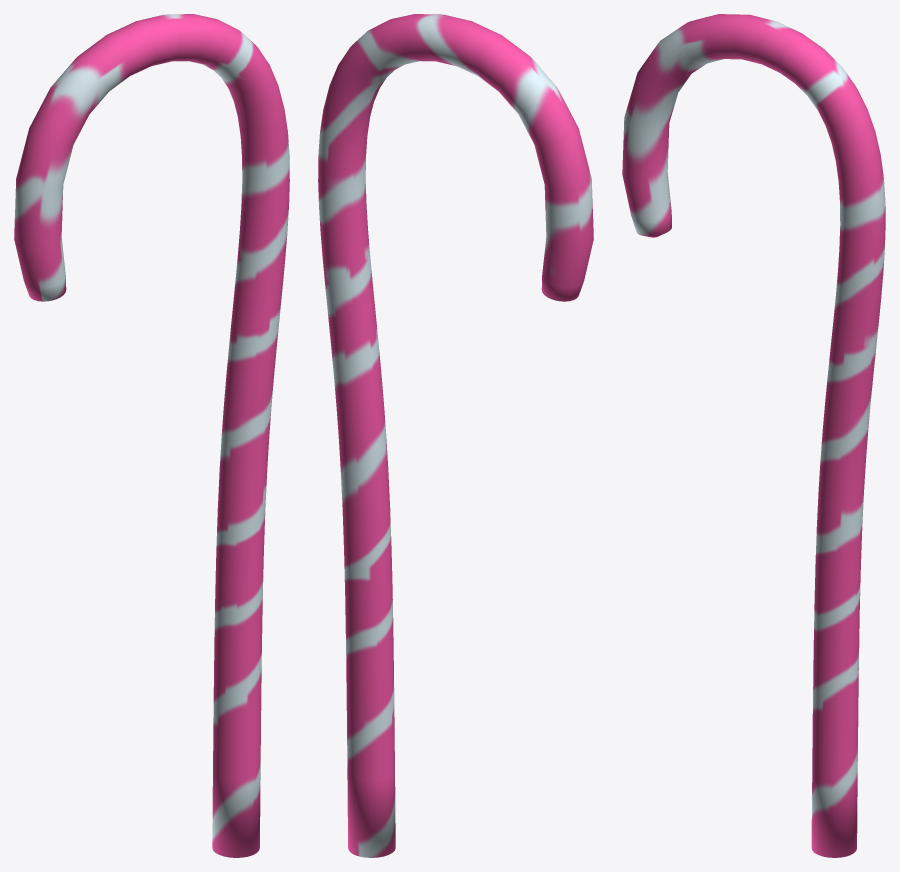
File: CandyCanePiece.obj
The picture shows the model from 3 angles, left to right: view 1: azimuth 30°, elevation 25°; view 2: azimuth 150°, elevation 25°; view 3: azimuth 330°, elevation 25°; orthographic projection. The views are drawn at different scales.
Parts seen in each view (by area): view 1: NurbsPath; view 2: NurbsPath; view 3: NurbsPath.
Part boxes in pixels (x1,y1,x2,y2): NurbsPath: [14, 14, 289, 857]; NurbsPath: [318, 14, 593, 857]; NurbsPath: [622, 14, 885, 857].
Size of the model in its own units: 3.31 by 9.95 by 0.506.
1 material, 1 textured.
